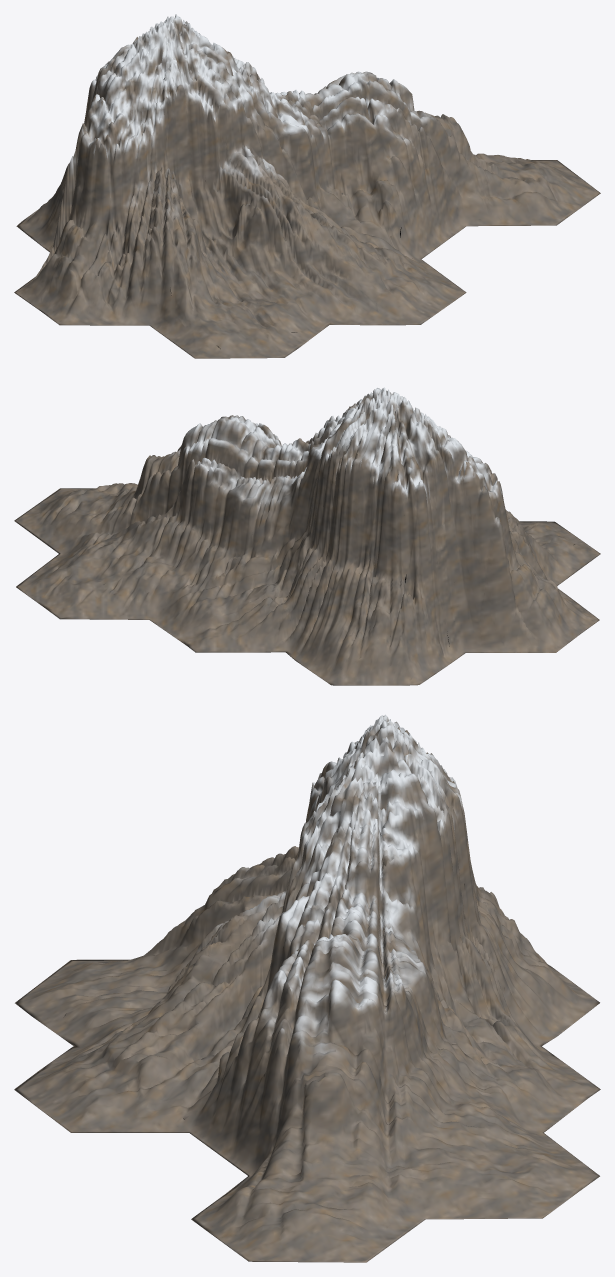
Rendered from mountain_massif_9hex_textured_v1.glb.
The picture shows the model from 3 angles, top to bottom: view 1: azimuth 30°, elevation 25°; view 2: azimuth 150°, elevation 25°; view 3: azimuth 270°, elevation 25°; orthographic projection. The views are drawn at different scales.
Parts seen in each view (by area): view 1: mountain_massif_9hex_textured_v1; view 2: mountain_massif_9hex_textured_v1; view 3: mountain_massif_9hex_textured_v1.
Part boxes in pixels (x1=…): mountain_massif_9hex_textured_v1: x1=14, y1=14, x2=600, y2=358; mountain_massif_9hex_textured_v1: x1=14, y1=387, x2=600, y2=685; mountain_massif_9hex_textured_v1: x1=14, y1=714, x2=600, y2=1262.
Bounding box in the file's own units: 6.93 × 2.81 × 4.97.
1 material, 1 textured.
